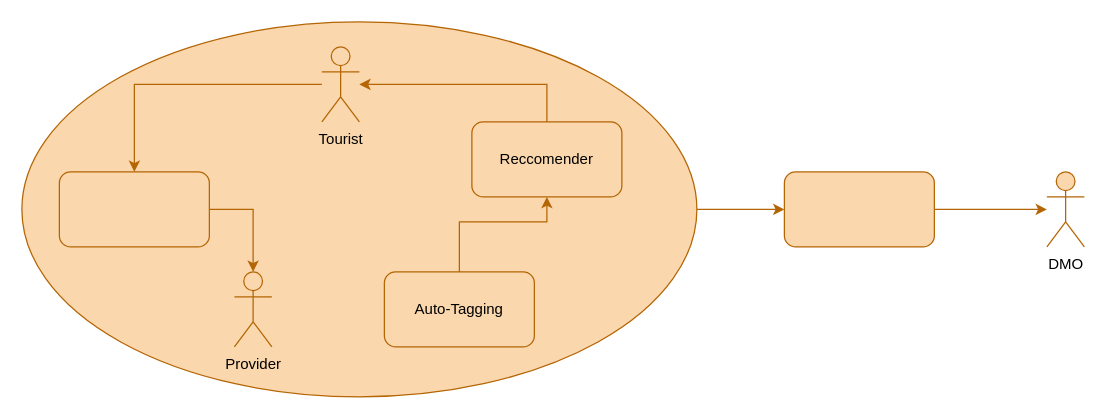
Some shapes in this 1106 by 419 pixel diagram are drawn without their labels. Each missing label, with the centre of its shape:
Predictor: the point at 858,209
Sentimental Analysis: the point at 133,209
